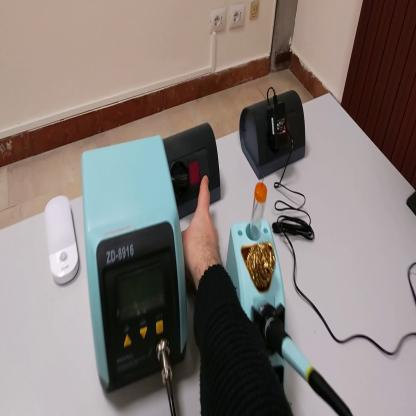hand: (180, 176, 222, 284)
socket: (239, 90, 308, 179), (162, 127, 222, 224)
welder base: (228, 185, 285, 386)
welder probe tip: (267, 322, 351, 415)
welder station: (83, 137, 188, 400)
